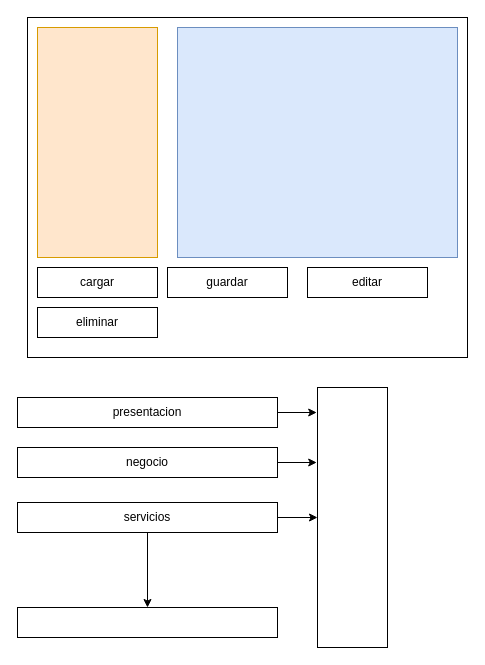
Some shapes in this 485 by 665 pixel diagram are drawn without their labels. The shapes that lost their labels are listed below. From the top down, each one's centre as x and y in pixels, then its label:
pixel 97 142: provincia #casos #fallecidos #vacunados #centroVacunacion responsable
pixel 147 622: datos
